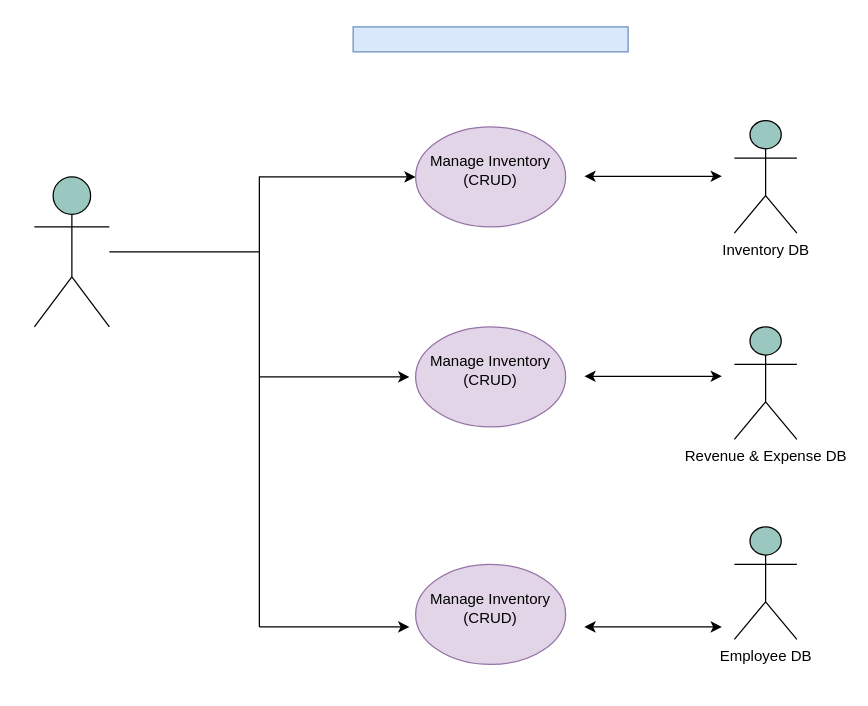
This 868x706 diagram has some shape labels left out. Here are the shapes that lost their labels. From the top down, the centre of each, then its label:
At (x=490, y=39): "Manager Use Case".
At (x=71, y=251): "Manager (SL2)".
